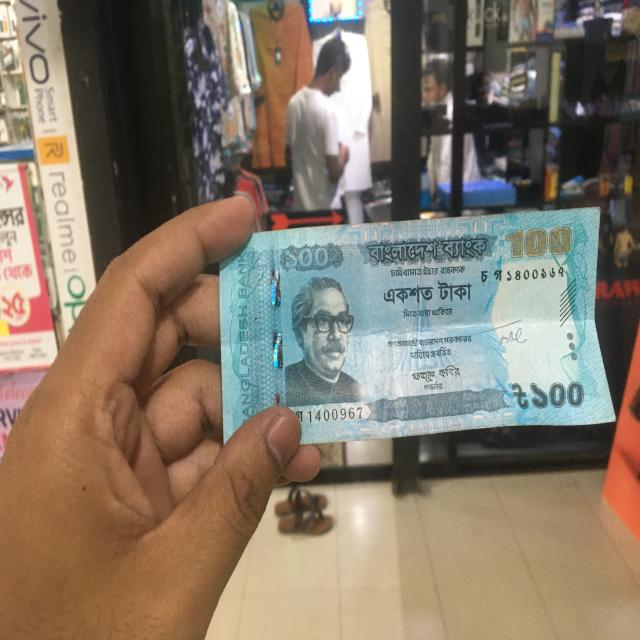Taka: (220, 216, 612, 433)
